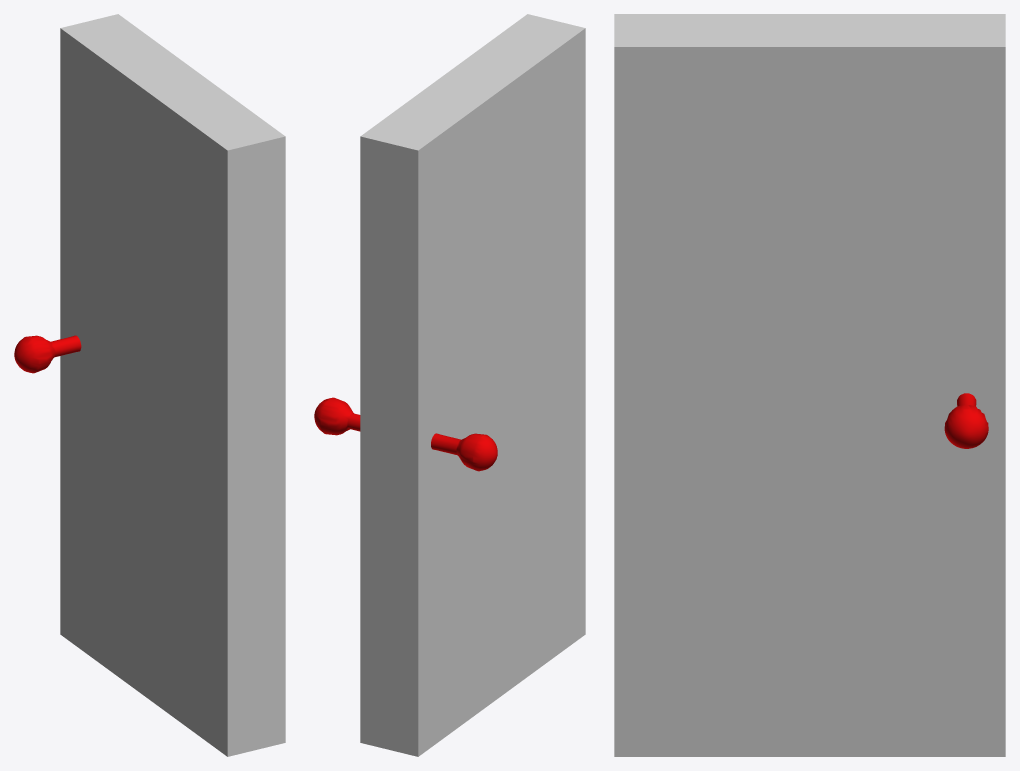
File: door.fbx
3 views of the same model, side by side, from view 1: azimuth 30°, elevation 25°; view 2: azimuth 150°, elevation 25°; view 3: azimuth 270°, elevation 25° (orthographic). The views are drawn at different scales.
Visible parts, largest first — view 1: Cube, Mball; view 2: Cube, Mball; view 3: Cube, Mball.
Part boxes in pixels (bbox=[...]): Cube: bbox=[60, 14, 285, 756]; Mball: bbox=[14, 335, 81, 373]; Cube: bbox=[360, 14, 585, 756]; Mball: bbox=[314, 397, 497, 471]; Cube: bbox=[614, 14, 1005, 756]; Mball: bbox=[944, 393, 988, 448].
Size of the model in its own units: 124 by 400 by 200.
